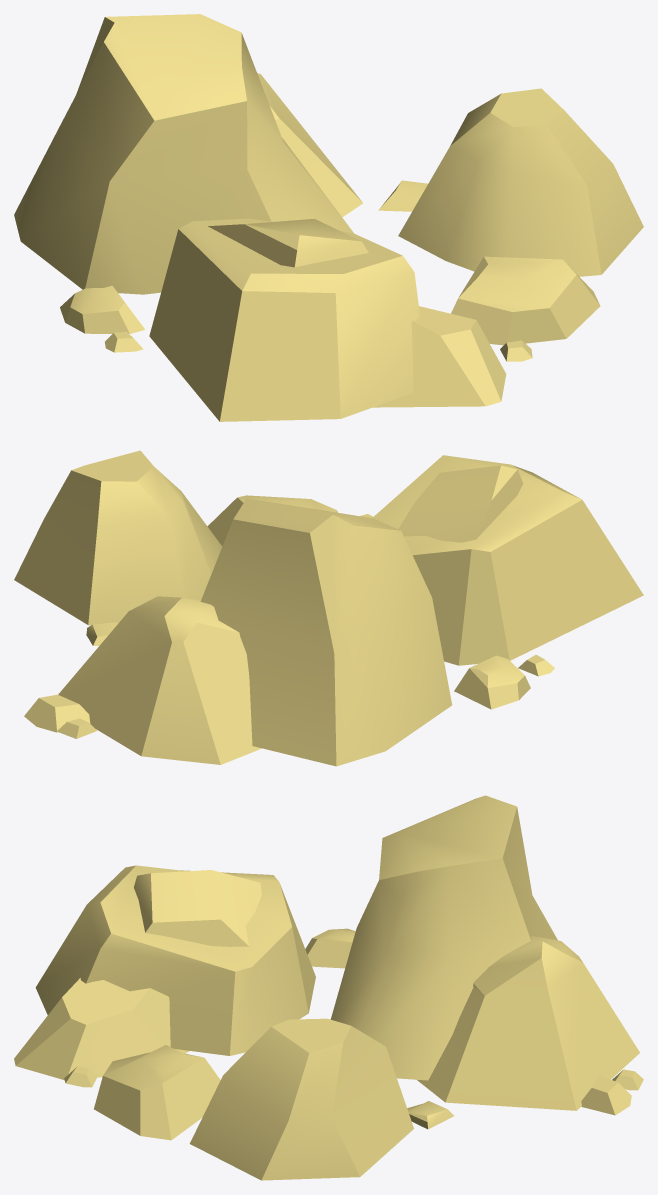
The model's file is dixing8.FBX.
The picture shows the model from 3 angles, top to bottom: view 1: azimuth 30°, elevation 25°; view 2: azimuth 150°, elevation 25°; view 3: azimuth 270°, elevation 25°; orthographic projection. The views are drawn at different scales.
Parts seen in each view (by area): view 1: Rocks01; view 2: Rocks01; view 3: Rocks01.
Boxes of the visible parts, x1,y1,x2,y2 form: Rocks01: (14, 14, 643, 421); Rocks01: (14, 450, 643, 766); Rocks01: (14, 795, 643, 1180).
Size of the model in its own units: 5.76 by 2.35 by 6.39.
